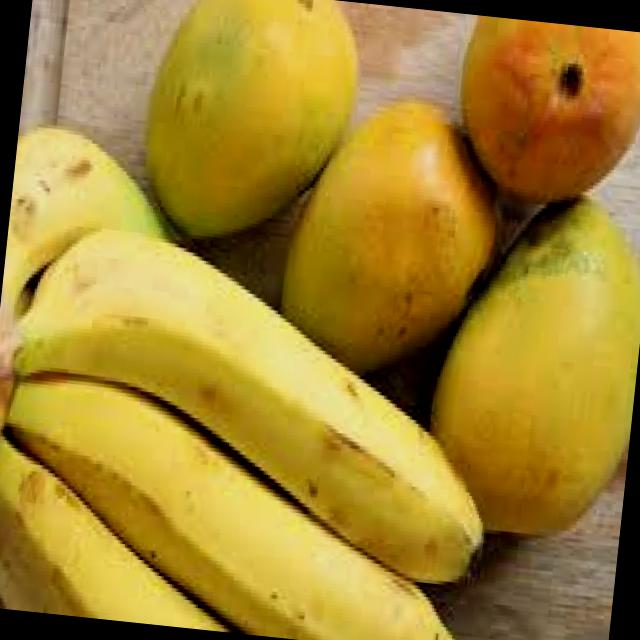Banana: (0, 125, 525, 640)
Mango: (420, 181, 640, 545), (274, 85, 512, 389), (134, 0, 367, 254), (449, 14, 640, 214)
